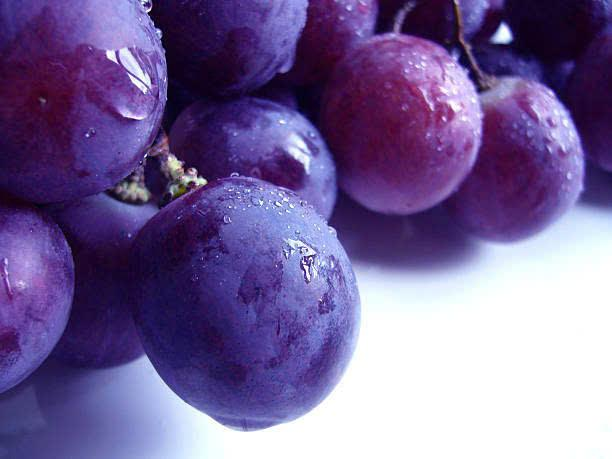grape: (133, 190, 362, 427), (1, 0, 168, 198), (331, 18, 502, 206), (473, 92, 601, 254), (172, 107, 334, 210), (4, 207, 76, 412), (167, 7, 313, 104)
